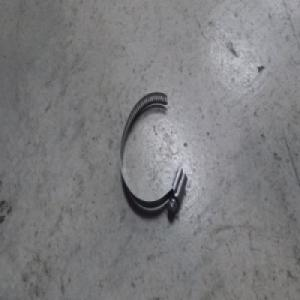AdjustableClamp: (119, 92, 186, 219)
